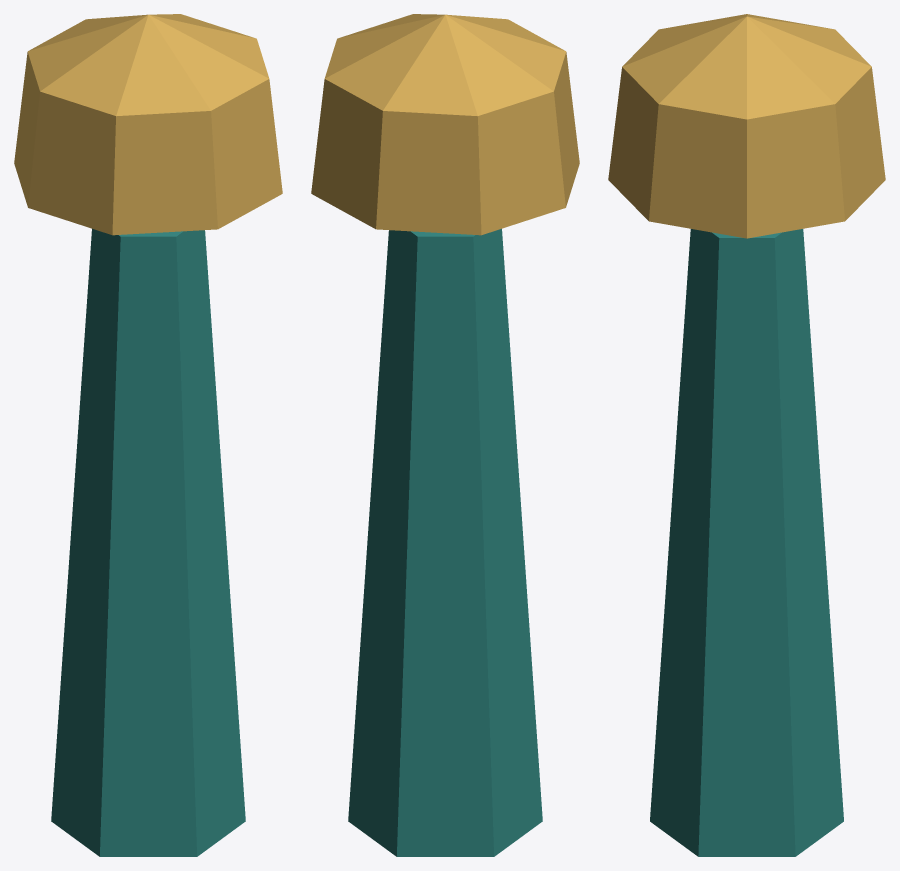
The model's file is marker.gltf.
3 renders of one model, left to right at view 1: azimuth 30°, elevation 25°; view 2: azimuth 150°, elevation 25°; view 3: azimuth 270°, elevation 25°, orthographic.
Parts seen in each view (by area): view 1: post, lamp; view 2: post, lamp; view 3: post, lamp.
Part boxes in pixels (bbox=[...]): post: bbox=[51, 228, 245, 856]; lamp: bbox=[14, 14, 282, 235]; post: bbox=[348, 228, 542, 856]; lamp: bbox=[311, 14, 579, 235]; post: bbox=[650, 229, 843, 856]; lamp: bbox=[608, 14, 885, 238].
Bounding box in the file's own units: 1 × 3.2 × 1.
